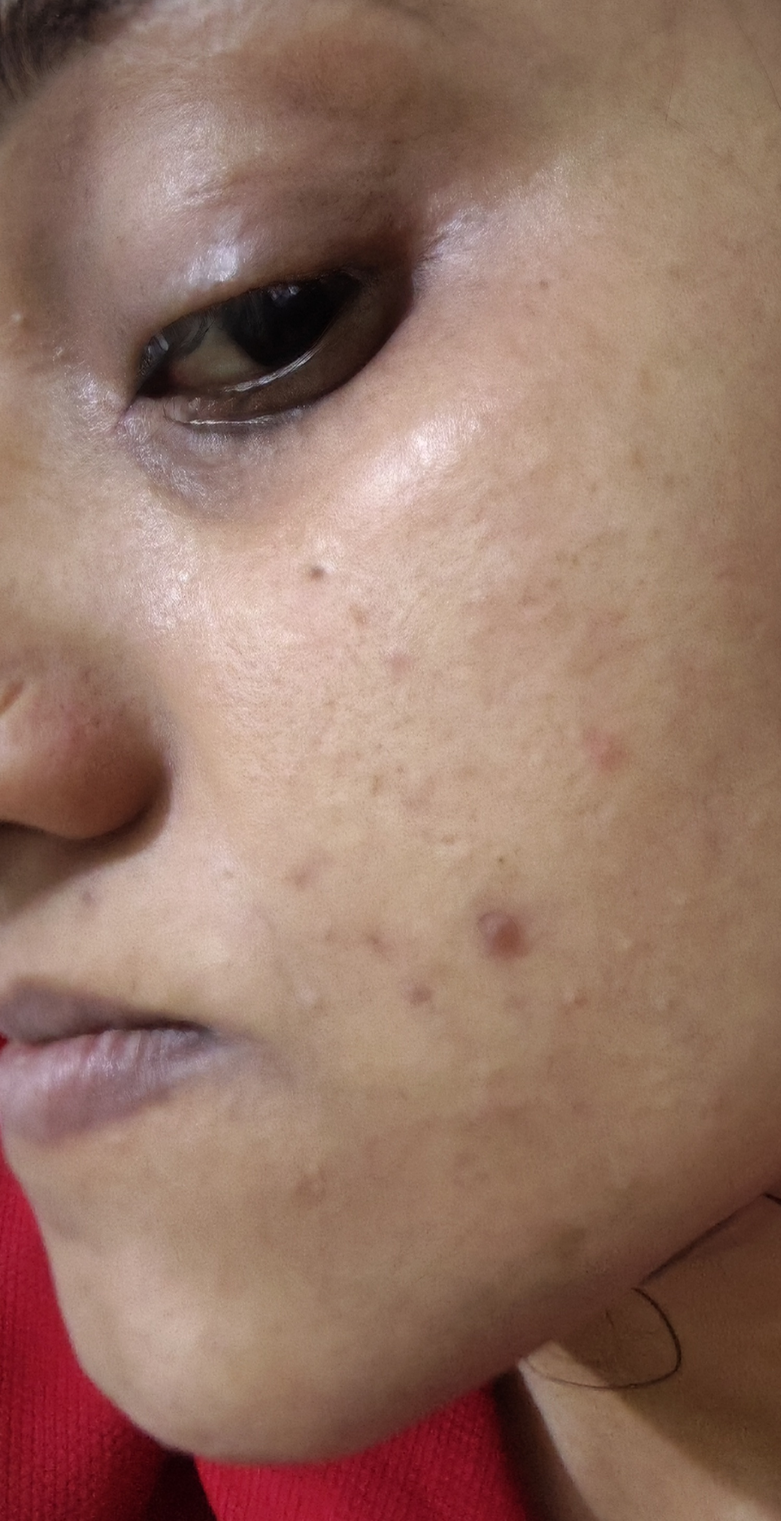closed_comedone: (250, 848, 343, 959), (348, 620, 448, 700), (569, 713, 649, 790)
papule: (463, 883, 539, 994)
